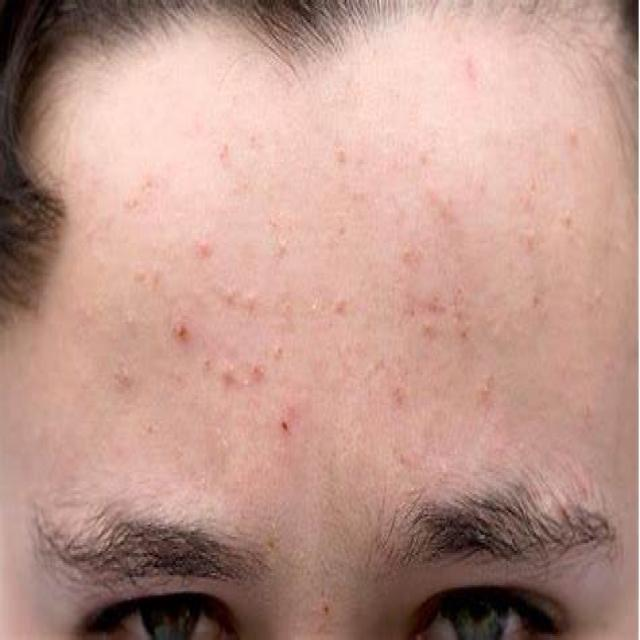fungal: (114, 92, 598, 456)
